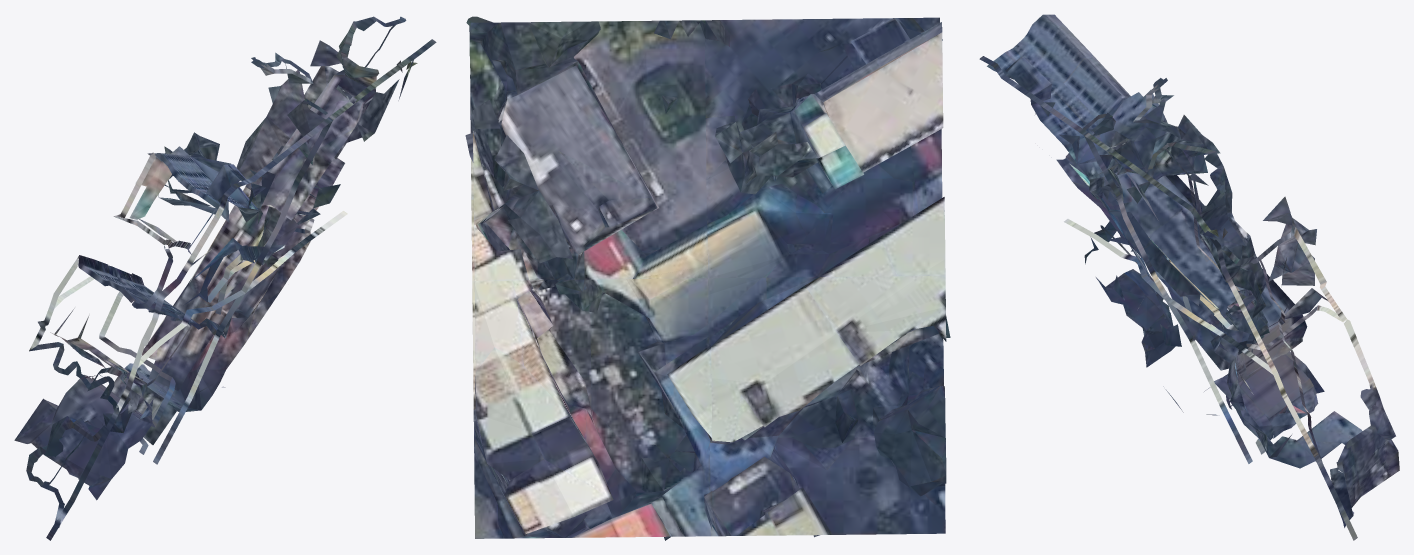
3 views of the same model, side by side, from view 1: azimuth 30°, elevation 25°; view 2: azimuth 150°, elevation 25°; view 3: azimuth 270°, elevation 25° (orthographic). The views are drawn at different scales.
Size of the model in its own units: 79.03 by 76.41 by 70.68.
Materials: 1 (1 with a texture image).
